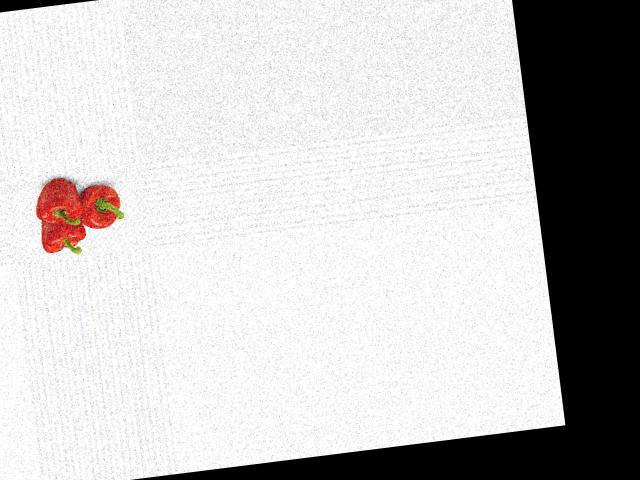bell_pepper: (71, 178, 129, 236)
